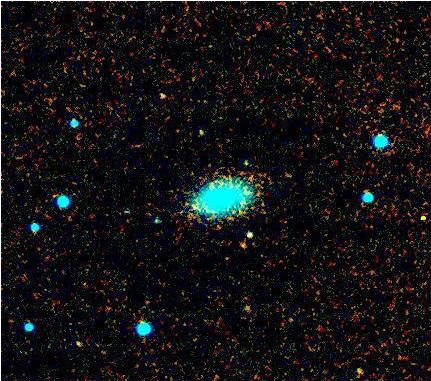star: (405, 207, 431, 237)
